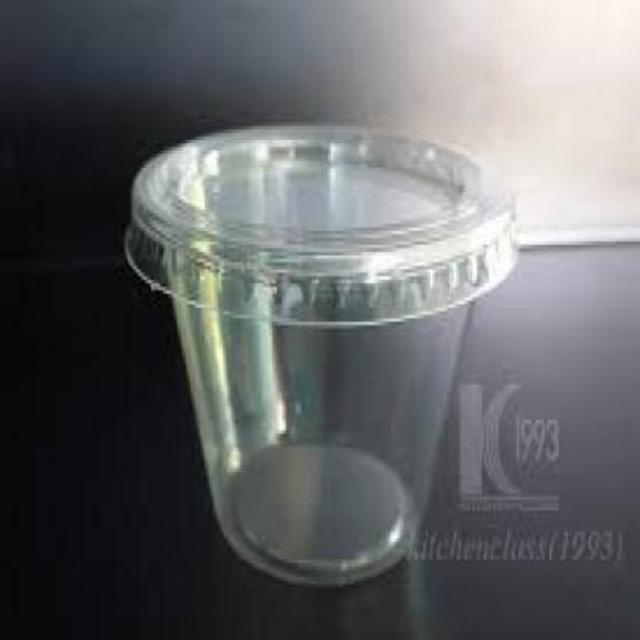plastic_box: (125, 122, 520, 588)
